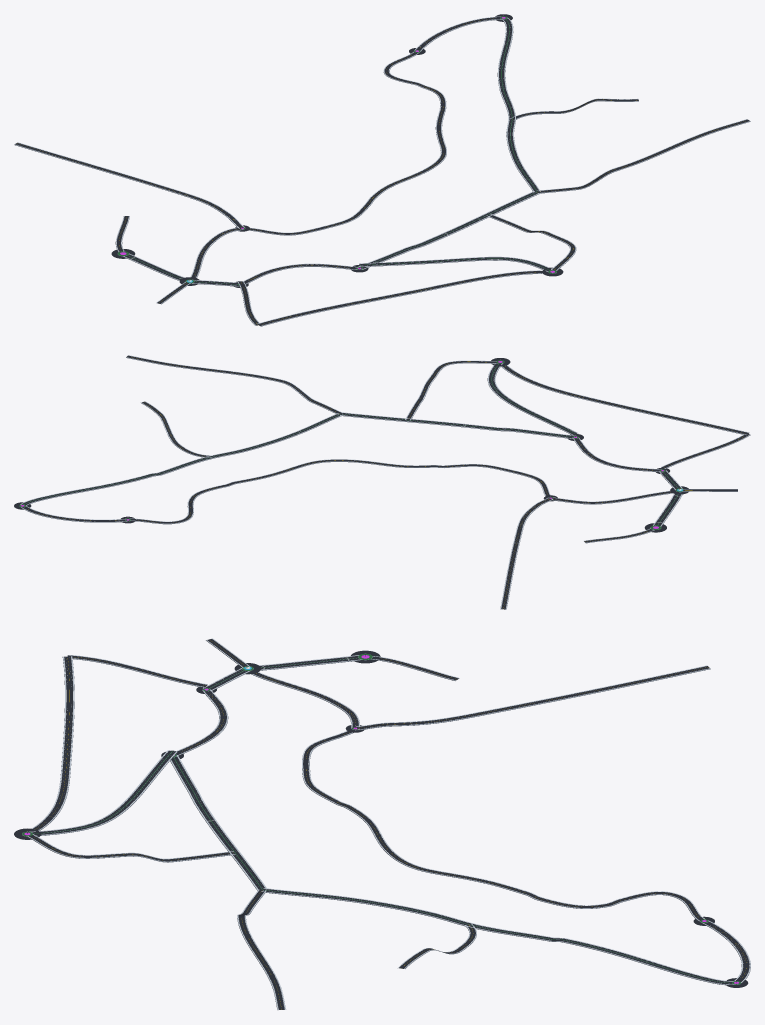
The model's file is tran_quoc_toan_thuy_ta_cho_dalat_true_roads_w1.glb.
3 renders of one model, top to bottom at view 1: azimuth 30°, elevation 25°; view 2: azimuth 150°, elevation 25°; view 3: azimuth 270°, elevation 25°, orthographic. The views are drawn at different scales.
Parts seen in each view (by area): view 1: rd_tqt_05_bichcau_doicu_dinhtienhoang_Asphalt_Right, rd_tqt_05_bichcau_doicu_dinhtienhoang_Asphalt_Left, rd_tran_phu_east_stub_Asphalt_Left; view 2: rd_tqt_05_bichcau_doicu_dinhtienhoang_Asphalt_Left, rd_tqt_05_bichcau_doicu_dinhtienhoang_Asphalt_Right, rd_tqt_03_yersin_vuonhoa_dong_Asphalt_Left, rd_tqt_03_yersin_vuonhoa_dong_Asphalt_Right, rd_tqt_05_bichcau_doicu_dinhtienhoang_Sidewalk_L, rd_tran_phu_east_stub_Asphalt_Left, rd_tran_phu_east_stub_Asphalt_Right, rd_tqt_05_bichcau_doicu_dinhtienhoang_Sidewalk_R; view 3: rd_tqt_05_bichcau_doicu_dinhtienhoang_Asphalt_Right, rd_tqt_05_bichcau_doicu_dinhtienhoang_Asphalt_Left, rd_tqt_03_yersin_vuonhoa_dong_Asphalt_Left, rd_tqt_03_yersin_vuonhoa_dong_Asphalt_Right, rd_tran_phu_east_stub_Asphalt_Left, rd_dinh_tien_hoang_Asphalt_Left, rd_dinh_tien_hoang_Asphalt_Right, rd_tran_phu_east_stub_Asphalt_Right, rd_tqt_05_bichcau_doicu_dinhtienhoang_Sidewalk_L, rd_tqt_05_bichcau_doicu_dinhtienhoang_Sidewalk_R.
Part boxes in pixels (x1,y1,x2,y2): rd_tqt_05_bichcau_doicu_dinhtienhoang_Asphalt_Right: (250,54,443,233); rd_tqt_05_bichcau_doicu_dinhtienhoang_Asphalt_Left: (249,54,445,234); rd_tran_phu_east_stub_Asphalt_Left: (259,272,542,325); rd_tqt_05_bichcau_doicu_dinhtienhoang_Asphalt_Left: (135,459,549,522); rd_tqt_05_bichcau_doicu_dinhtienhoang_Asphalt_Right: (136,460,547,523); rd_tqt_03_yersin_vuonhoa_dong_Asphalt_Left: (28,414,341,503); rd_tqt_03_yersin_vuonhoa_dong_Asphalt_Right: (25,414,339,502); rd_tqt_05_bichcau_doicu_dinhtienhoang_Sidewalk_L: (130,459,550,521); rd_tran_phu_east_stub_Asphalt_Left: (505,365,748,433); rd_tran_phu_east_stub_Asphalt_Right: (502,366,747,434); rd_tqt_05_bichcau_doicu_dinhtienhoang_Sidewalk_R: (131,461,545,523); rd_tqt_05_bichcau_doicu_dinhtienhoang_Asphalt_Right: (306,732,700,917); rd_tqt_05_bichcau_doicu_dinhtienhoang_Asphalt_Left: (303,731,698,917); rd_tqt_03_yersin_vuonhoa_dong_Asphalt_Left: (263,889,725,982); rd_tqt_03_yersin_vuonhoa_dong_Asphalt_Right: (263,890,724,983); rd_tran_phu_east_stub_Asphalt_Left: (33,656,69,829); rd_dinh_tien_hoang_Asphalt_Left: (356,666,708,728); rd_dinh_tien_hoang_Asphalt_Right: (356,667,709,729); rd_tran_phu_east_stub_Asphalt_Right: (36,656,73,830); rd_tqt_05_bichcau_doicu_dinhtienhoang_Sidewalk_L: (302,731,699,921); rd_tqt_05_bichcau_doicu_dinhtienhoang_Sidewalk_R: (308,732,705,919).
Bounding box in the file's own units: 1993 × 46.03 × 1605.
